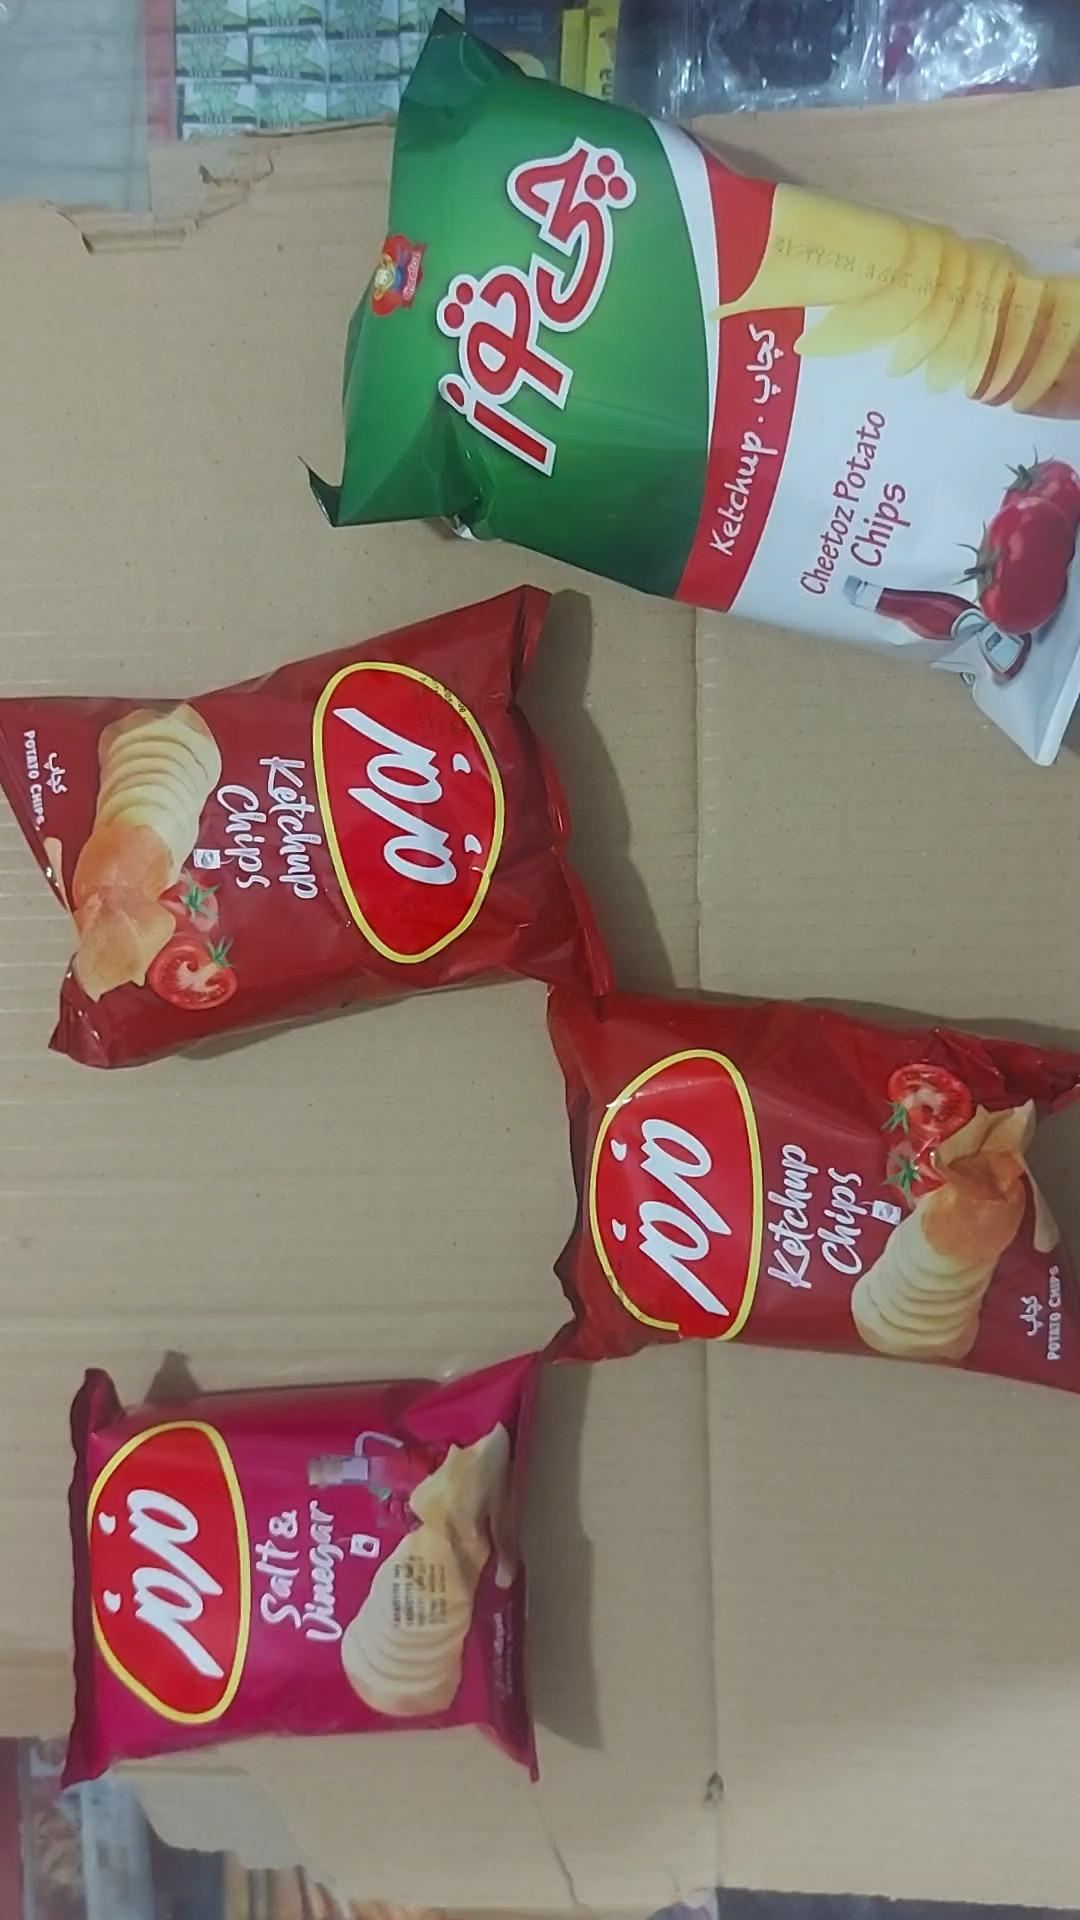Cheetoz ketchup chips: (307, 11, 1079, 770)
Maz Maz ketchup chips: (0, 585, 616, 1072), (539, 986, 1079, 1396)
Maz Maz vinegar chips: (61, 1353, 541, 1789)
